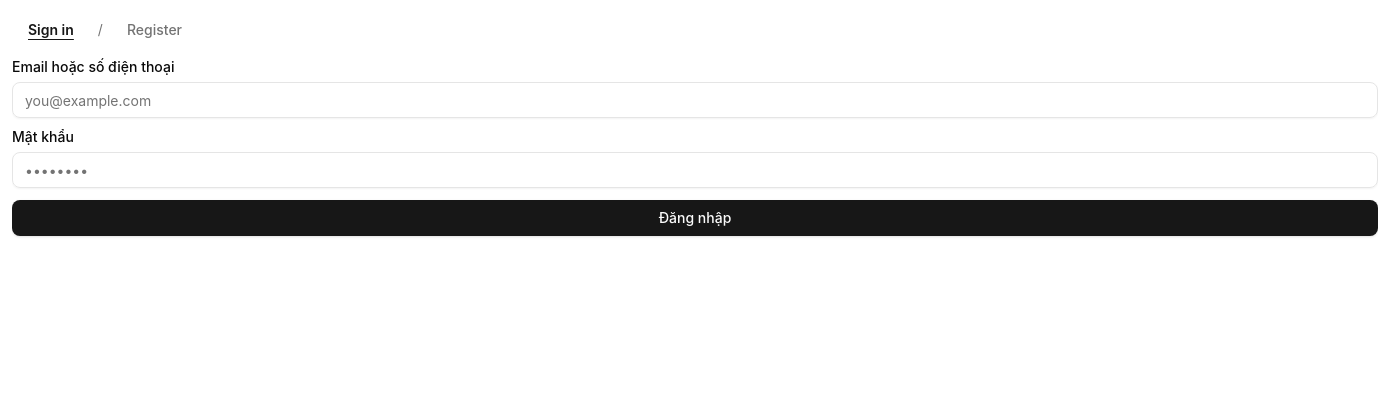
Test case: AuthDemo › switches back to login mode
Click the button "Register". click: (154, 30)
box: [111, 12, 198, 48]
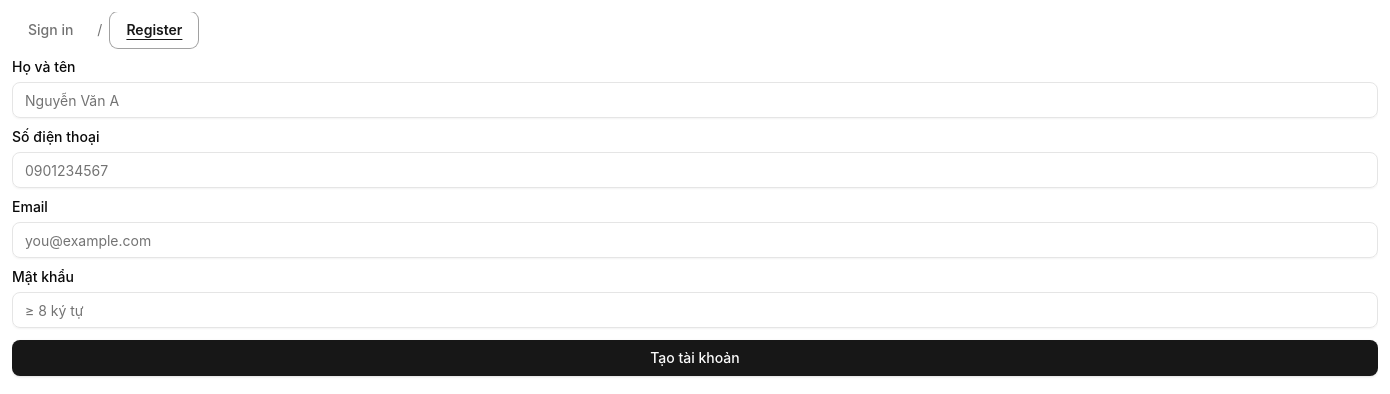
Click the button "Sign in". click: (51, 30)
box: [12, 12, 89, 48]
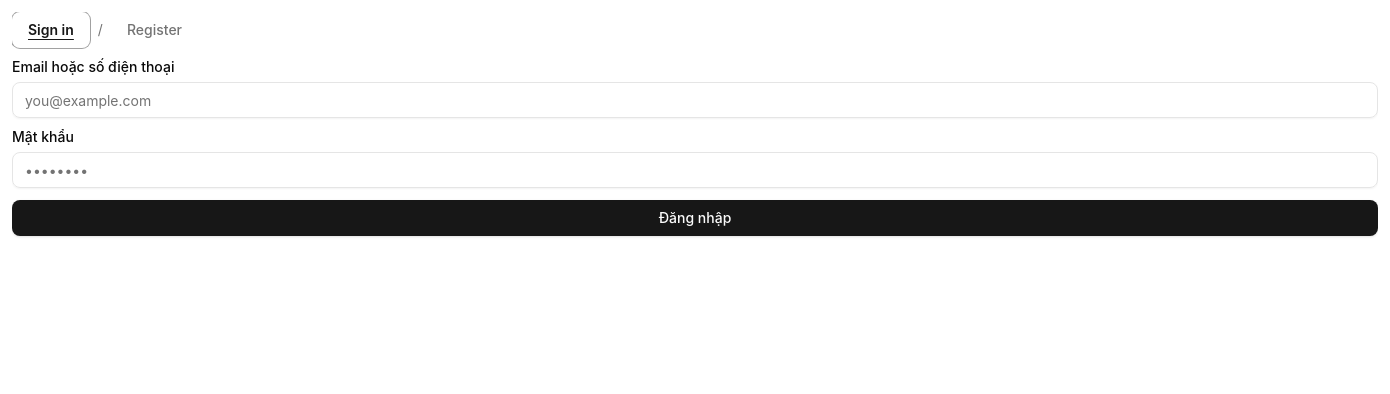
Result: the button "Đăng nhập" is shown at [12, 200, 1378, 236]
